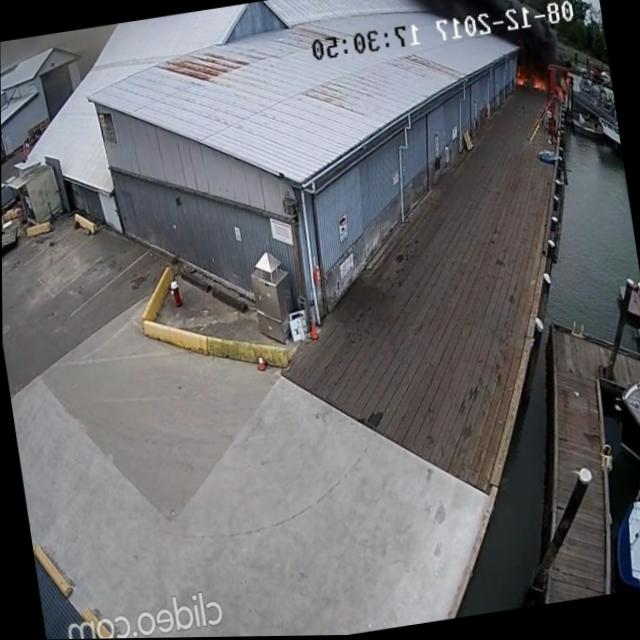fire: (514, 67, 530, 92), (531, 78, 548, 95)
